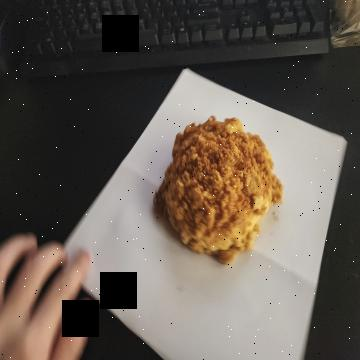soboru_bread: (151, 115, 282, 266)
